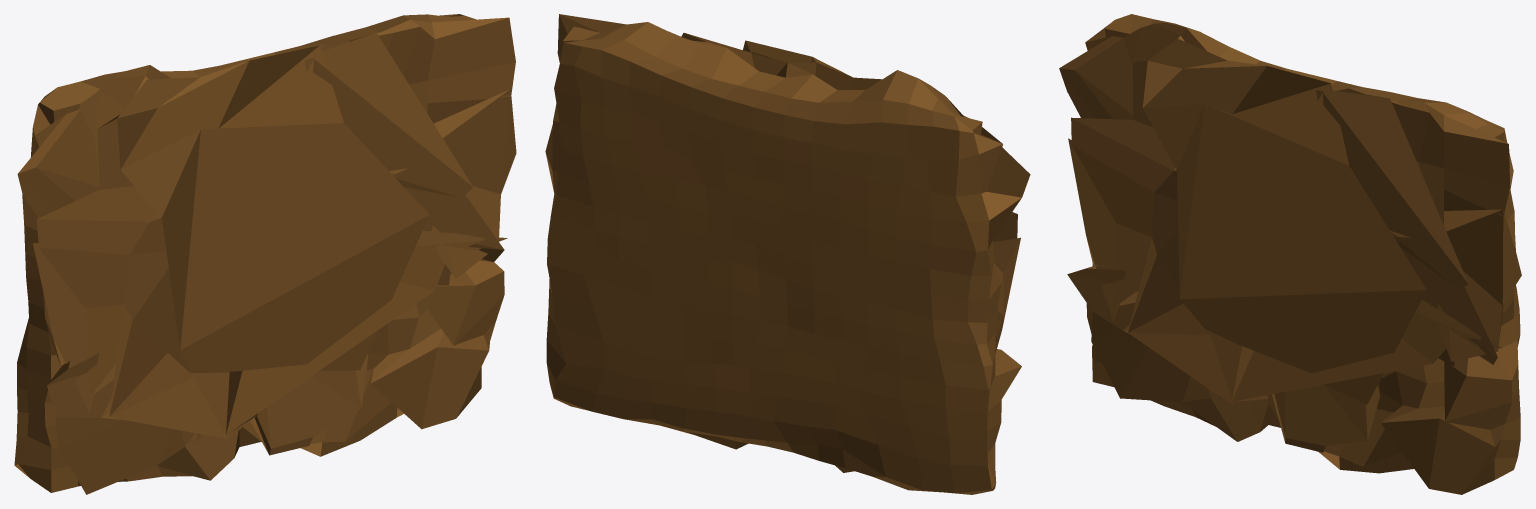
The model's file is ecudo pequeño.fbx.
3 views of the same model, side by side, from view 1: azimuth 30°, elevation 25°; view 2: azimuth 150°, elevation 25°; view 3: azimuth 330°, elevation 25° (orthographic). The views are drawn at different scales.
Visible parts, largest first — view 1: Cube; view 2: Cube; view 3: Cube.
Part boxes in pixels (x1=…): Cube: x1=14, y1=14, x2=516, y2=494; Cube: x1=545, y1=14, x2=1030, y2=494; Cube: x1=1059, y1=14, x2=1521, y2=494.
Bounding box in the file's own units: 960 × 795 × 146.
